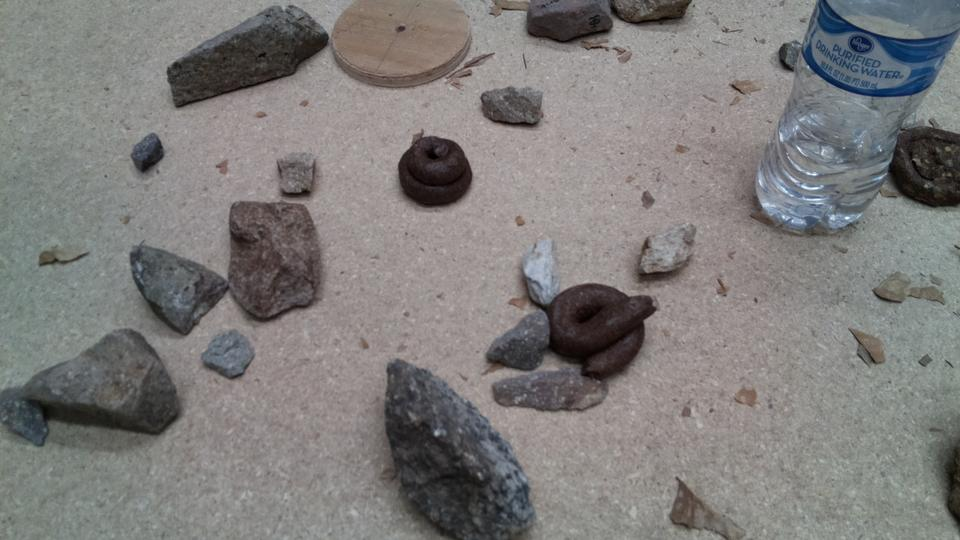poop: (547, 280, 663, 379), (394, 133, 476, 210), (887, 121, 960, 207)
